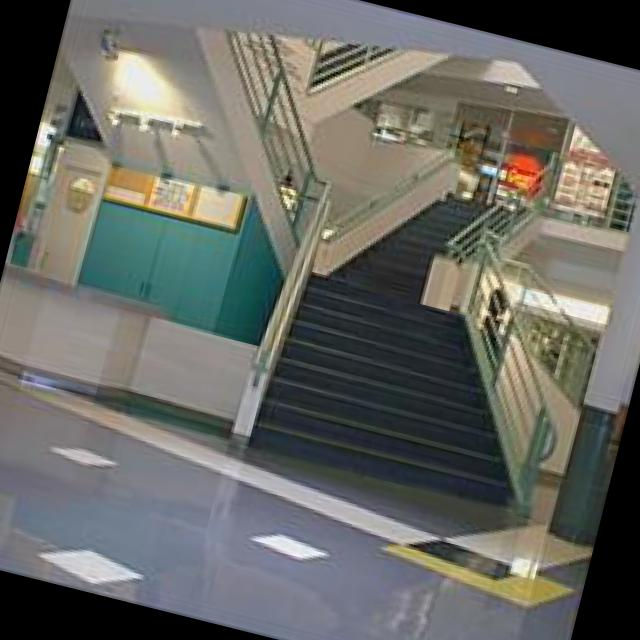counter bottom: (0, 260, 253, 431)
floor -X: (0, 365, 590, 640)
lamp crop: (95, 24, 115, 60)
lamps: (104, 101, 200, 135)
railing: (193, 23, 454, 443), (421, 146, 552, 511), (492, 212, 595, 404), (273, 33, 446, 124), (535, 156, 633, 247)
shop window: (447, 97, 565, 202)
staircase: (245, 190, 524, 502)
wall clock: (0, 0, 640, 541), (348, 50, 633, 197), (310, 107, 446, 216), (530, 354, 577, 475)
